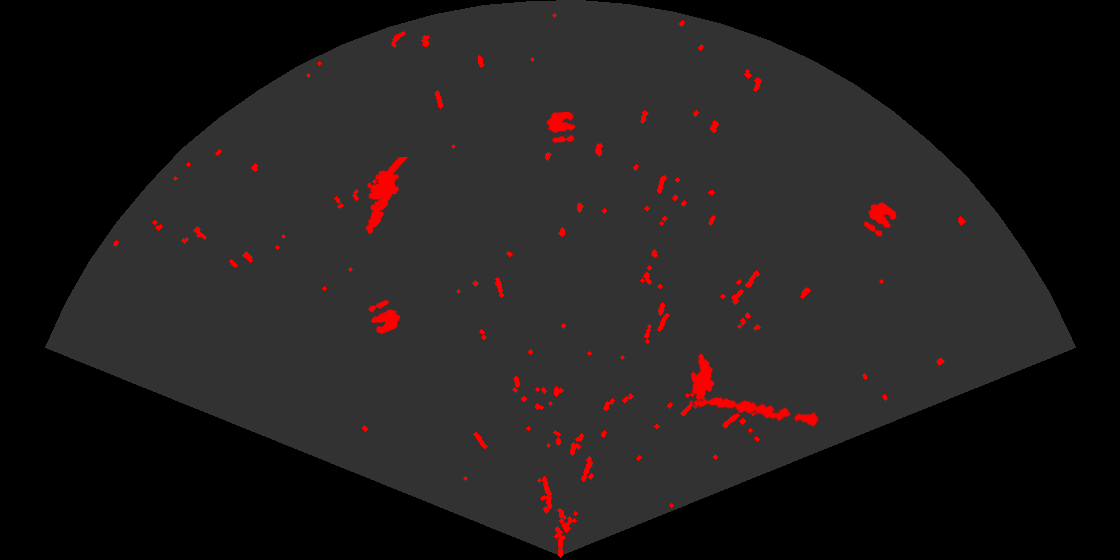AUV: (689, 352, 716, 402)
ball: (862, 201, 898, 238), (367, 298, 402, 336), (545, 110, 577, 144)
chain: (691, 395, 821, 428)
frogman: (364, 157, 410, 235)
